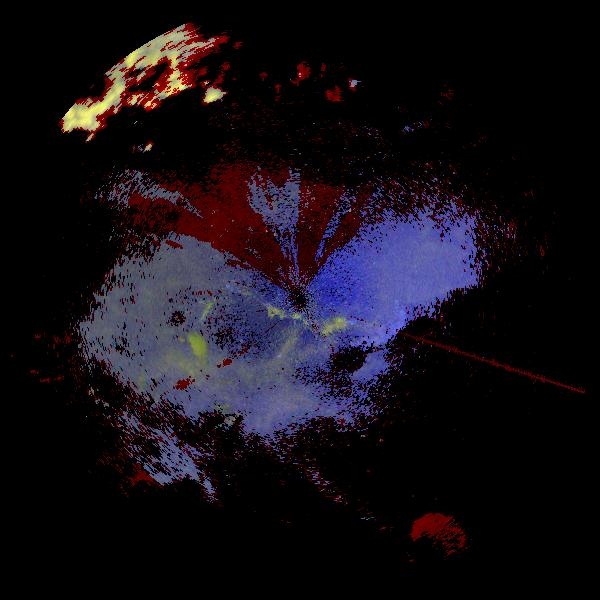roost: (95, 294, 236, 435), (388, 487, 490, 589)
